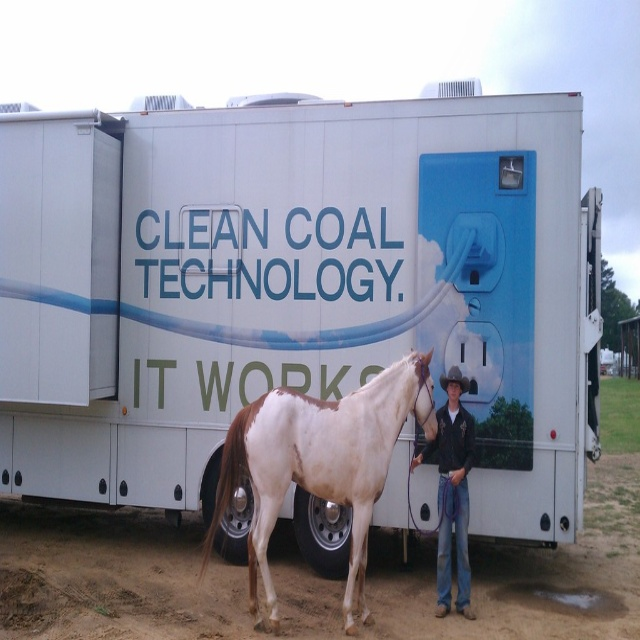Horse: (195, 347, 439, 637)
